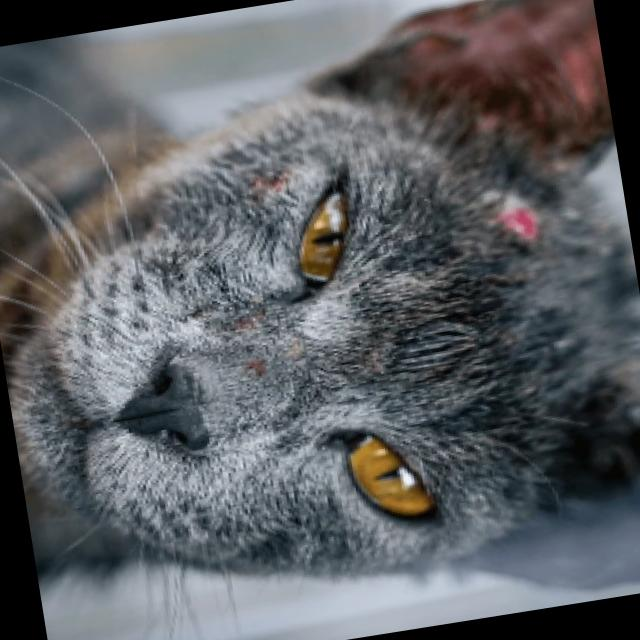Mange: (493, 193, 545, 253), (244, 162, 297, 208), (237, 347, 278, 390)
